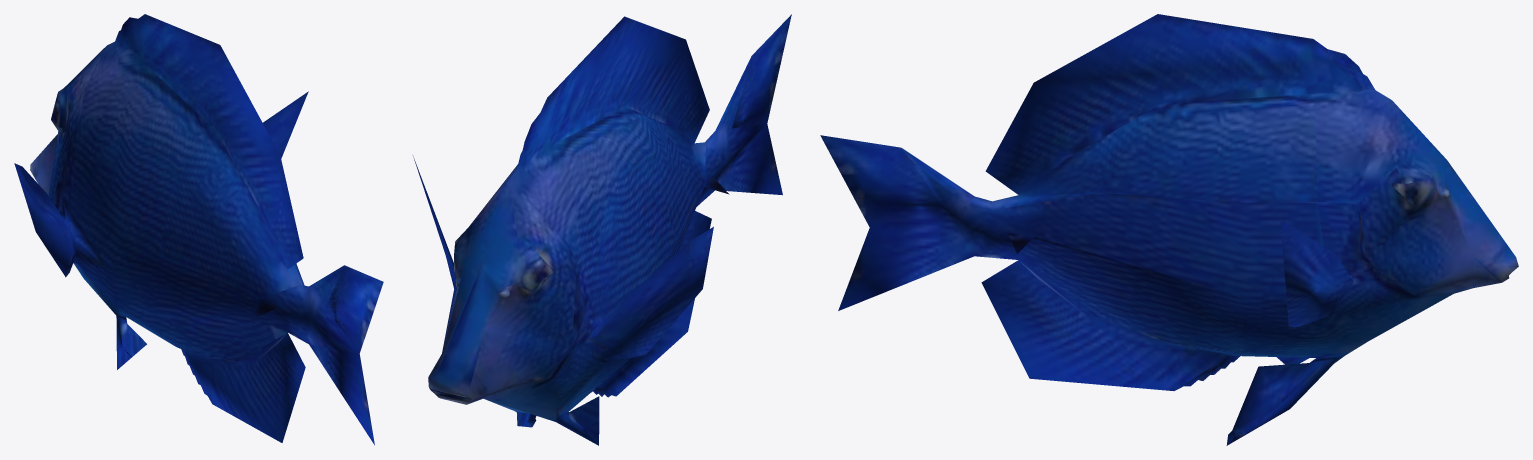
File: blauwe_dokter-ver.glb
The picture shows the model from 3 angles, left to right: view 1: azimuth 30°, elevation 25°; view 2: azimuth 150°, elevation 25°; view 3: azimuth 270°, elevation 25°; orthographic projection. The views are drawn at different scales.
Parts seen in each view (by area): view 1: tripo_node_c82592c9-526e-48d9-ad99-59b457081b45; view 2: tripo_node_c82592c9-526e-48d9-ad99-59b457081b45; view 3: tripo_node_c82592c9-526e-48d9-ad99-59b457081b45.
Part boxes in pixels (<box>): tripo_node_c82592c9-526e-48d9-ad99-59b457081b45: <box>14,14,383,445</box>; tripo_node_c82592c9-526e-48d9-ad99-59b457081b45: <box>413,14,791,445</box>; tripo_node_c82592c9-526e-48d9-ad99-59b457081b45: <box>820,14,1518,445</box>.
Size of the model in its own units: 0.2368 by 0.3 by 0.4709.
1 material, 1 textured.
